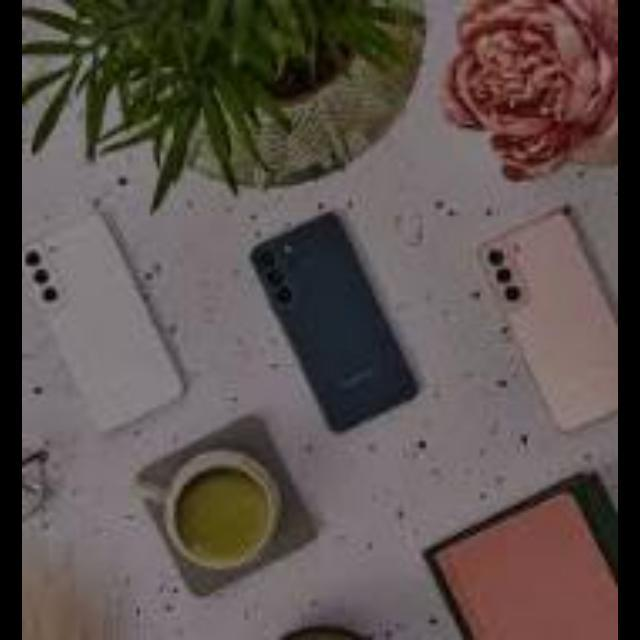Phone: (250, 211, 420, 429), (25, 220, 186, 434), (480, 215, 618, 430)
